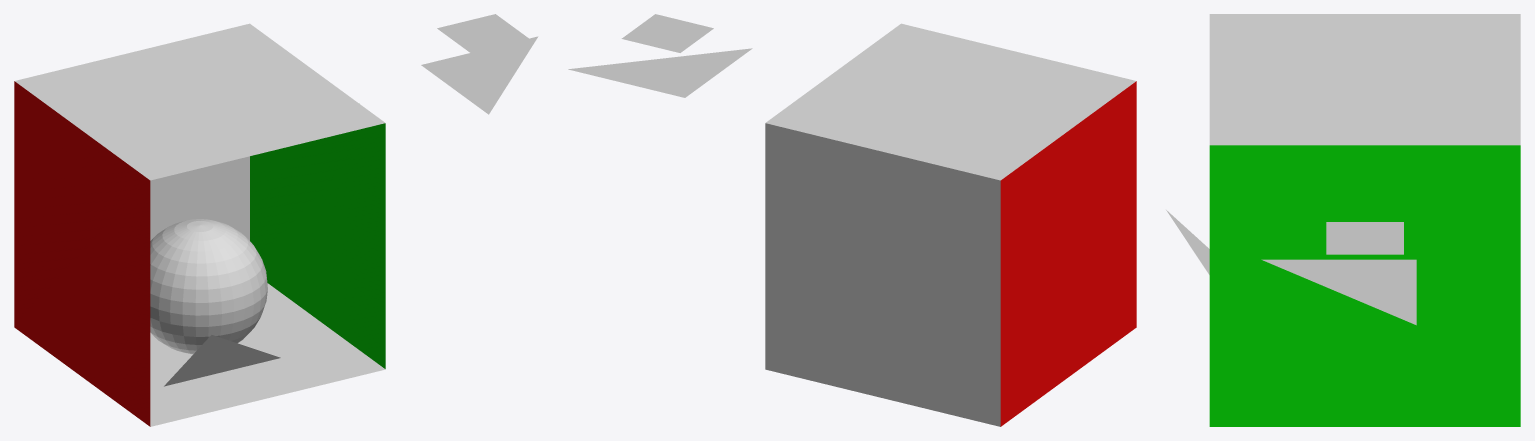
Rendered from my_Cornell_Box_portals_outside.obj.
3 views of the same model, side by side, from view 1: azimuth 30°, elevation 25°; view 2: azimuth 150°, elevation 25°; view 3: azimuth 270°, elevation 25° (orthographic). The views are drawn at different scales.
Visible parts, largest first — view 1: Plane.004, Plane, Plane.003, Plane.001, Sphere, Plane.002, Portal_we, Portal_wy, Plane.005; view 2: Plane.002, Plane.004, Plane, Portal_we, Plane.005; view 3: Plane.003, Plane, Portal_we, Plane.005, Portal_wy.
Part boxes in pixels (left/top/right/bottom): Plane.004: left=14, top=81, right=150, bottom=426; Plane: left=15, top=23, right=385, bottom=180; Plane.003: left=250, top=123, right=385, bottom=368; Plane.001: left=150, top=283, right=385, bottom=426; Sphere: left=150, top=219, right=267, bottom=354; Plane.002: left=150, top=156, right=249, bottom=240; Portal_we: left=421, top=36, right=538, bottom=114; Portal_wy: left=164, top=335, right=280, bottom=386; Plane.005: left=437, top=14, right=529, bottom=52; Plane.002: left=765, top=123, right=1000, bottom=426; Plane.004: left=1000, top=81, right=1136, bottom=426; Plane: left=765, top=23, right=1135, bottom=180; Portal_we: left=568, top=48, right=752, bottom=97; Plane.005: left=621, top=14, right=713, bottom=52; Plane.003: left=1209, top=145, right=1520, bottom=426; Plane: left=1209, top=14, right=1520, bottom=145; Portal_we: left=1261, top=259, right=1416, bottom=325; Plane.005: left=1326, top=222, right=1403, bottom=254; Portal_wy: left=1166, top=210, right=1209, bottom=274.
Size of the model in its own units: 8.13 by 4 by 4.57.
